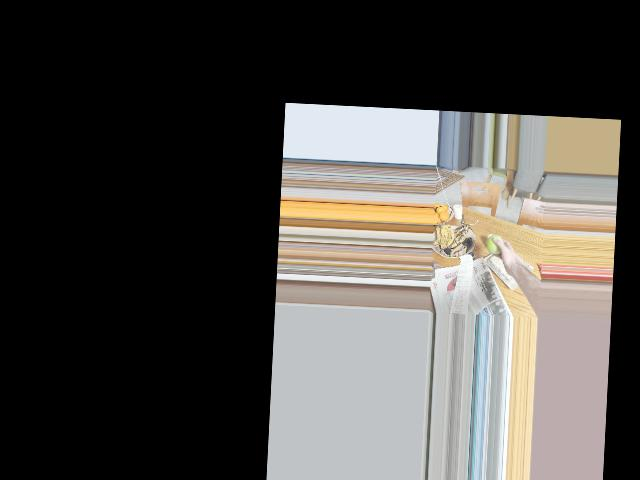apple: (487, 234, 506, 256)
